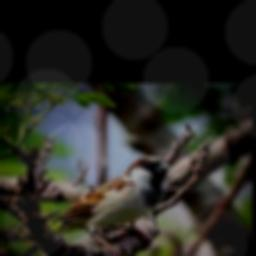Sparrow: (51, 155, 170, 254)
